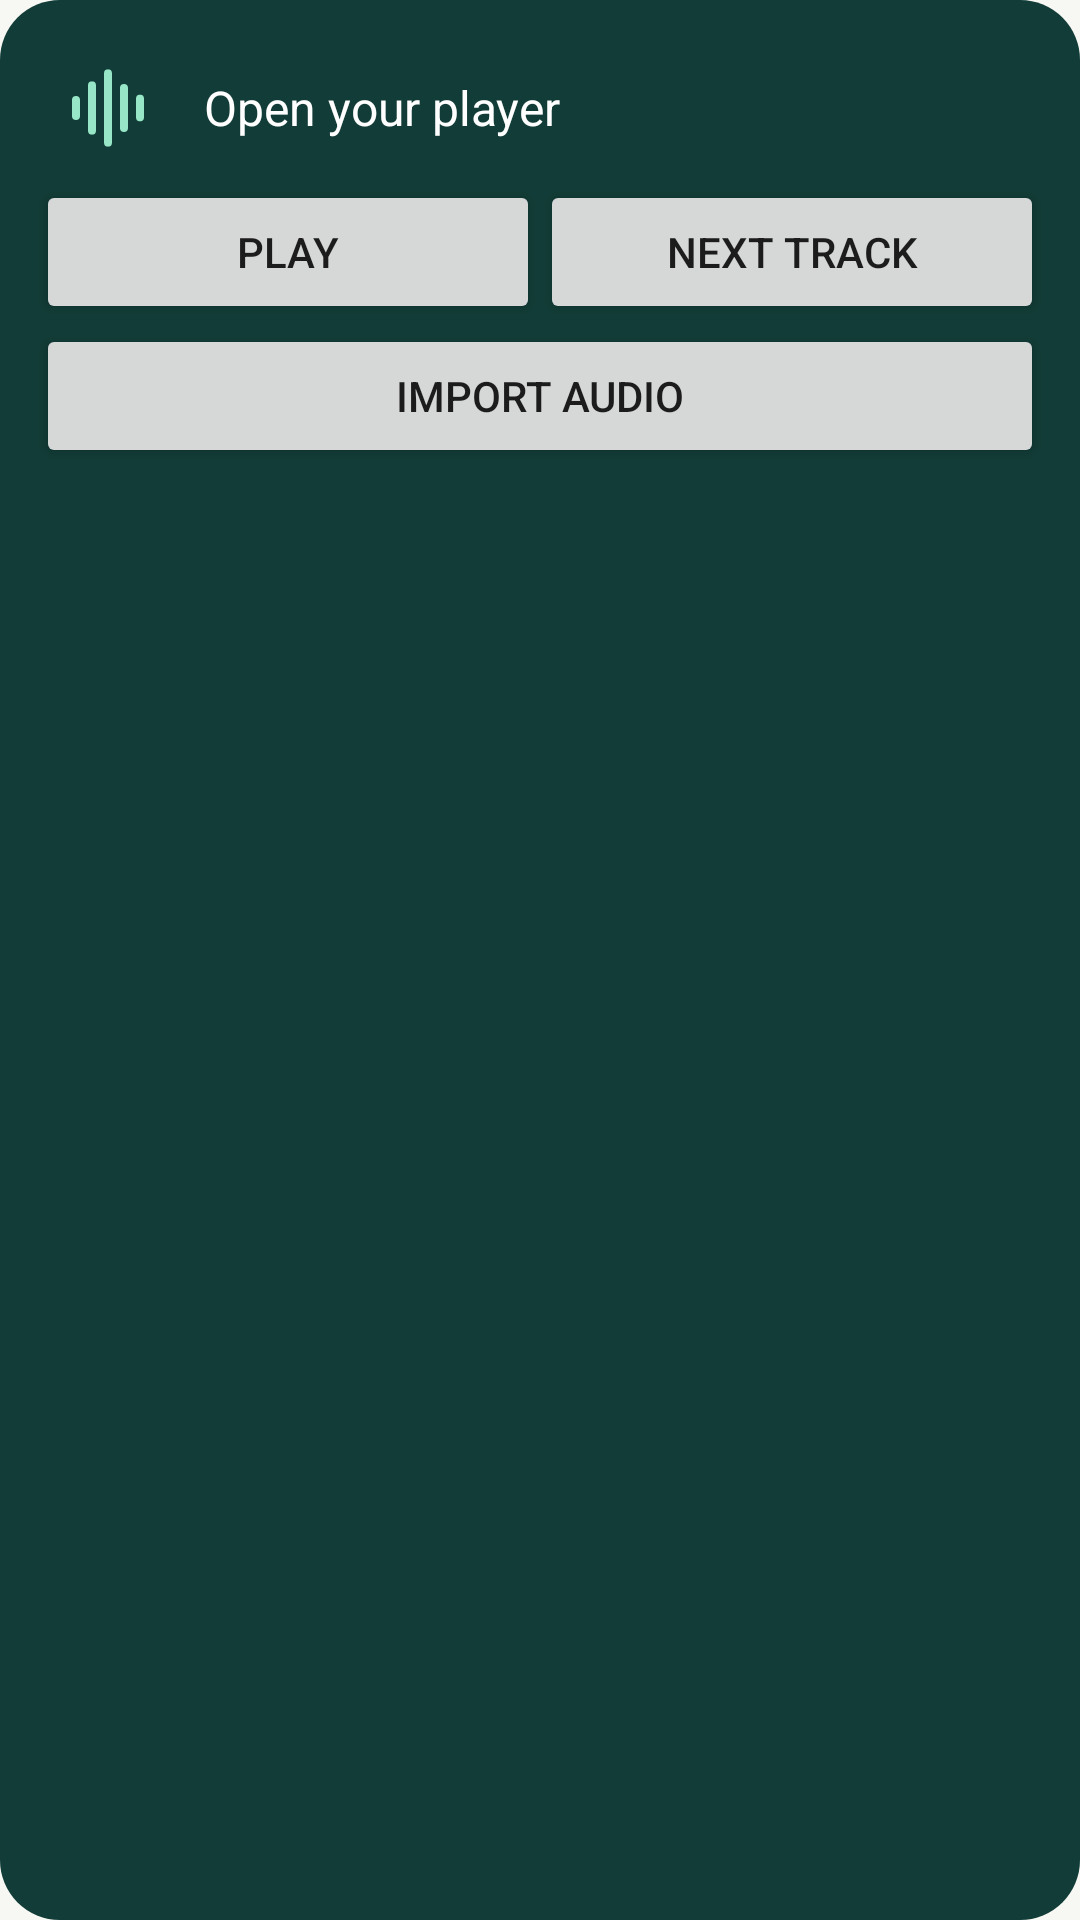

Screen size 1080x1920. Icon name, then its center in pixels as (x=x, y=y):
vocal: (x=108, y=108)
